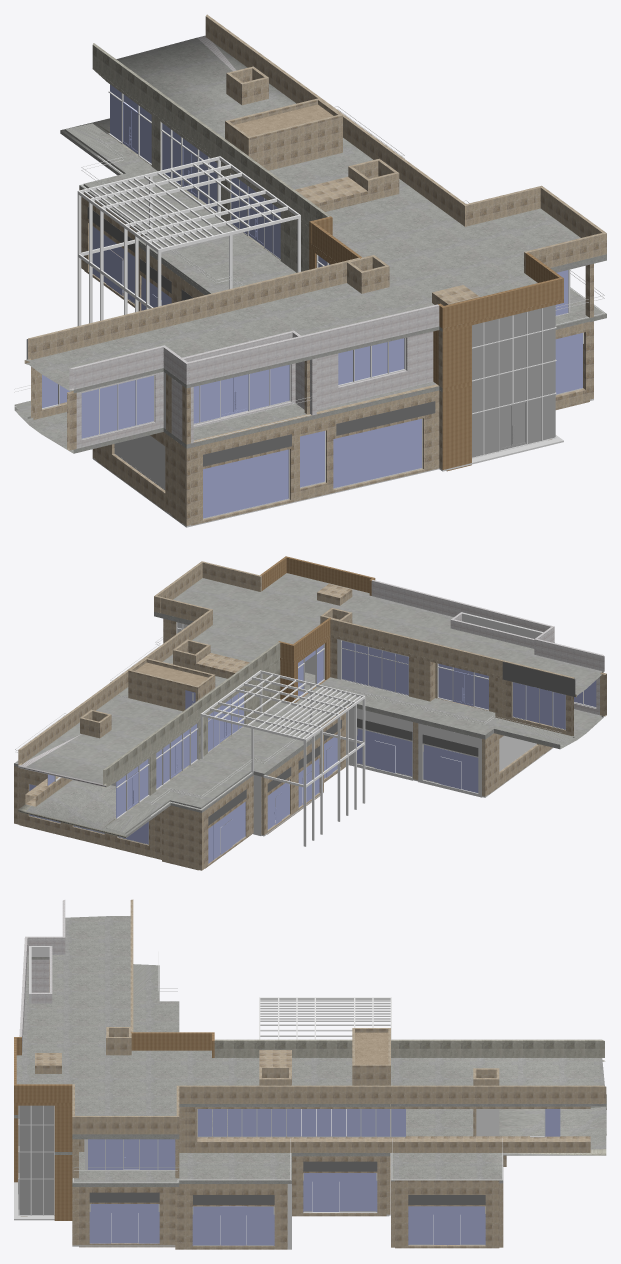
3 renders of one model, top to bottom at view 1: azimuth 30°, elevation 25°; view 2: azimuth 150°, elevation 25°; view 3: azimuth 270°, elevation 25°, orthographic. The views are drawn at different scales.
Visible parts, largest first — view 1: S.SLAB-2 S.SLAB-2 [363837].006, System Panel SINGLE GLASS [1883737], Basic Wall WALL -30CM [1872802], S.SLAB-1 S.SLAB-1 [1801362].008, Basic Wall WALL -20CM [1939597], Floor FLOOR-1 [900120], Basic Wall WALL -20CM [1711907].001, Basic Wall WALL -20CM [1711750].001, Basic Wall WALL -20CM [2099228], Floor FLOOR-1 [568405].002, Basic Wall WALL -30CM [1914266], Basic Wall WALL -20CM [1992721] (+45 smaller); view 2: S.SLAB-2 S.SLAB-2 [363837].006, Floor FLOOR-1 [900120], S.SLAB-1 S.SLAB-1 [1801362].008, Floor FLOOR-1 [568405].002, Basic Wall WALL -20CM [1711750].001, Basic Wall WALL -20CM [1711907].001, Basic Wall WALL -20CM [2099228], Basic Wall WALL -30CM [1608184], Basic Wall WALL -20CM [1939597], Canopy1 Canopy-1 [914335].016, Basic Wall WALL -55CM [1608102], Basic Wall WALL -20CM [1992834] (+51 smaller); view 3: S.SLAB-2 S.SLAB-2 [363837].006, S.SLAB-1 S.SLAB-1 [1801362].008, Basic Wall WALL -20CM [1711907].001, Basic Wall WALL -20CM [1711750].001, Basic Wall WALL -100CM [1690299].001, Basic Wall WALL -30CM [1608013], Basic Wall WALL -30CM [1873542], Basic Wall WALL -30CM [1873494], Floor FLOOR-1 [900120], Basic Wall WALL -30CM [1889894], Basic Wall WALL -100CM [1954848], Basic Wall WALL -20CM [1923132] (+33 smaller).
Part boxes in pixels (x1,y1,x2,y2): S.SLAB-2 S.SLAB-2 [363837].006: (24, 35, 606, 392); System Panel SINGLE GLASS [1883737]: (203, 418, 421, 518); Basic Wall WALL -30CM [1872802]: (191, 384, 439, 525); S.SLAB-1 S.SLAB-1 [1801362].008: (14, 111, 606, 453); Basic Wall WALL -20CM [1939597]: (188, 304, 439, 383); Floor FLOOR-1 [900120]: (14, 217, 296, 418); Basic Wall WALL -20CM [1711907].001: (205, 14, 467, 226); Basic Wall WALL -20CM [1711750].001: (92, 43, 330, 223); Basic Wall WALL -20CM [2099228]: (124, 257, 359, 336); Floor FLOOR-1 [568405].002: (65, 123, 216, 233); Basic Wall WALL -30CM [1914266]: (316, 331, 433, 409); Basic Wall WALL -20CM [1992721]: (247, 114, 342, 170); S.SLAB-2 S.SLAB-2 [363837].006: (18, 573, 603, 787); Floor FLOOR-1 [900120]: (203, 677, 574, 775); S.SLAB-1 S.SLAB-1 [1801362].008: (14, 647, 603, 838); Floor FLOOR-1 [568405].002: (106, 759, 251, 833); Basic Wall WALL -20CM [1711750].001: (103, 642, 280, 785); Basic Wall WALL -20CM [1711907].001: (18, 609, 212, 765); Basic Wall WALL -20CM [2099228]: (330, 618, 504, 676); Basic Wall WALL -30CM [1608184]: (19, 768, 161, 859); Basic Wall WALL -20CM [1939597]: (371, 580, 551, 632); Canopy1 Canopy-1 [914335].016: (200, 670, 365, 846); Basic Wall WALL -55CM [1608102]: (165, 805, 198, 870); Basic Wall WALL -20CM [1992834]: (128, 669, 198, 711); S.SLAB-2 S.SLAB-2 [363837].006: (14, 916, 606, 1139); S.SLAB-1 S.SLAB-1 [1801362].008: (14, 1094, 606, 1186); Basic Wall WALL -20CM [1711907].001: (176, 1085, 606, 1103); Basic Wall WALL -20CM [1711750].001: (214, 1039, 604, 1057); Basic Wall WALL -100CM [1690299].001: (395, 1106, 590, 1152); Basic Wall WALL -30CM [1608013]: (395, 1180, 499, 1248); Basic Wall WALL -30CM [1873542]: (179, 1184, 287, 1249); Basic Wall WALL -30CM [1873494]: (79, 1187, 175, 1247); Floor FLOOR-1 [900120]: (133, 964, 179, 1032); Basic Wall WALL -30CM [1889894]: (292, 1156, 386, 1216); Basic Wall WALL -100CM [1954848]: (187, 1107, 291, 1152); Basic Wall WALL -20CM [1923132]: (72, 1116, 179, 1134).
Bounding box in the file's own units: 36.02 × 11.42 × 41.21.
Materials: 11 (6 with a texture image).
